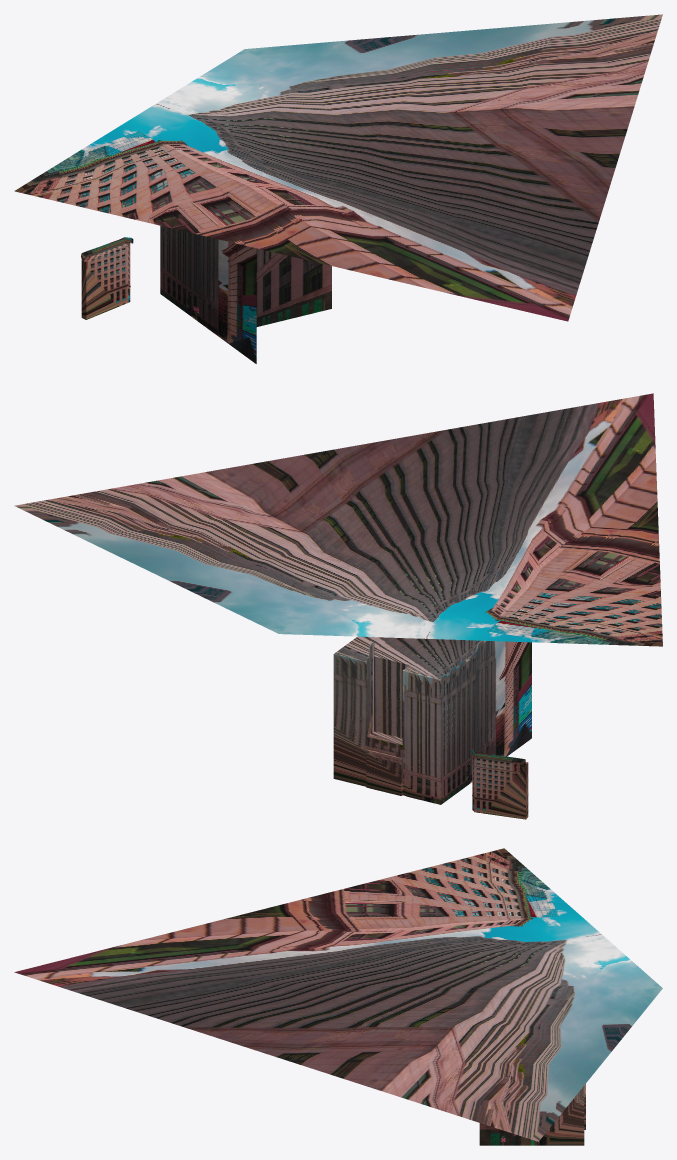
File: boston1.gltf
3 renders of one model, top to bottom at view 1: azimuth 30°, elevation 25°; view 2: azimuth 150°, elevation 25°; view 3: azimuth 270°, elevation 25°, orthographic. The views are drawn at different scales.
Visible parts, largest first — view 1: Sky, Cube, Cube.001; view 2: Sky, Cube, Cube.001; view 3: Sky, Cube.
Part boxes in pixels (x1,y1,x2,y2): Sky: (14, 14, 662, 321); Cube: (160, 225, 331, 363); Cube.001: (81, 237, 133, 319); Sky: (14, 393, 662, 646); Cube: (333, 636, 531, 804); Cube.001: (471, 748, 528, 819); Sky: (14, 848, 662, 1141); Cube: (479, 1084, 585, 1145).
Bounding box in the file's own units: 216 × 56.23 × 202.
Materials: 1 (1 with a texture image).
